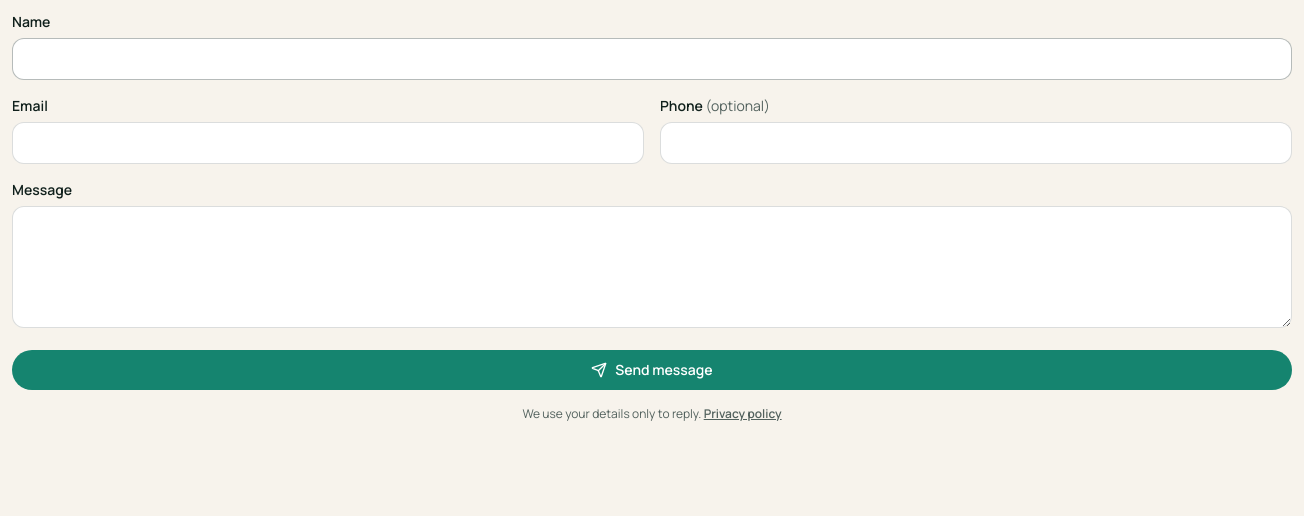
InquiryForm › clears a field error as soon as the field is edited
Click the button "Send message". click: (652, 370)
box: [12,350,1292,390]
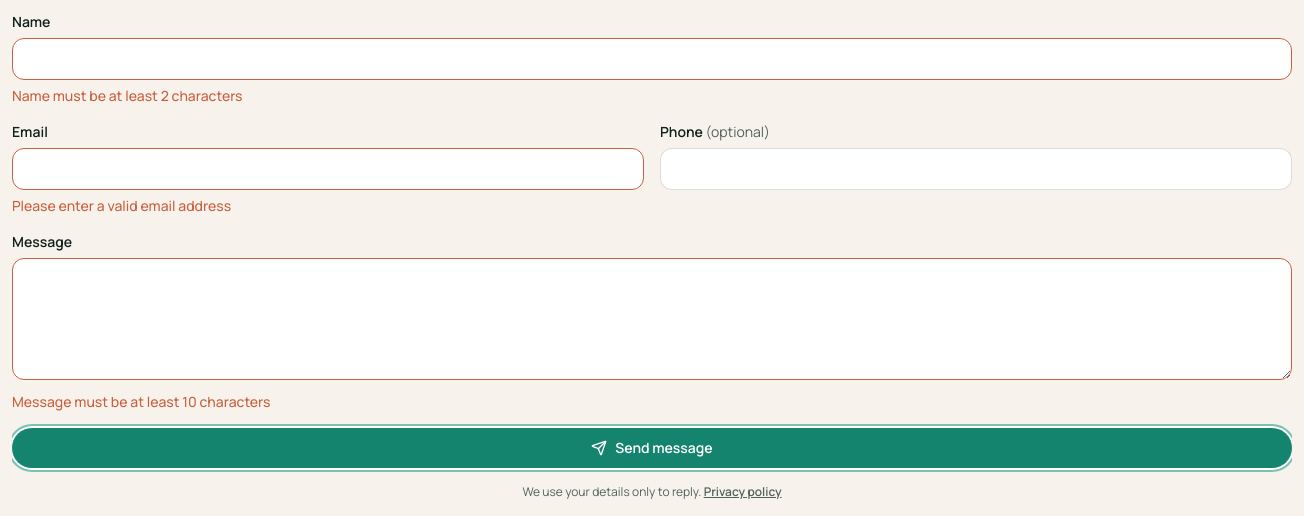
Now the text "Name must be at least 2 characters" is shown, box [12,86,243,105]
Type "P" into the field labelled "Name". click: (652, 59)
box: [12,38,1292,80]
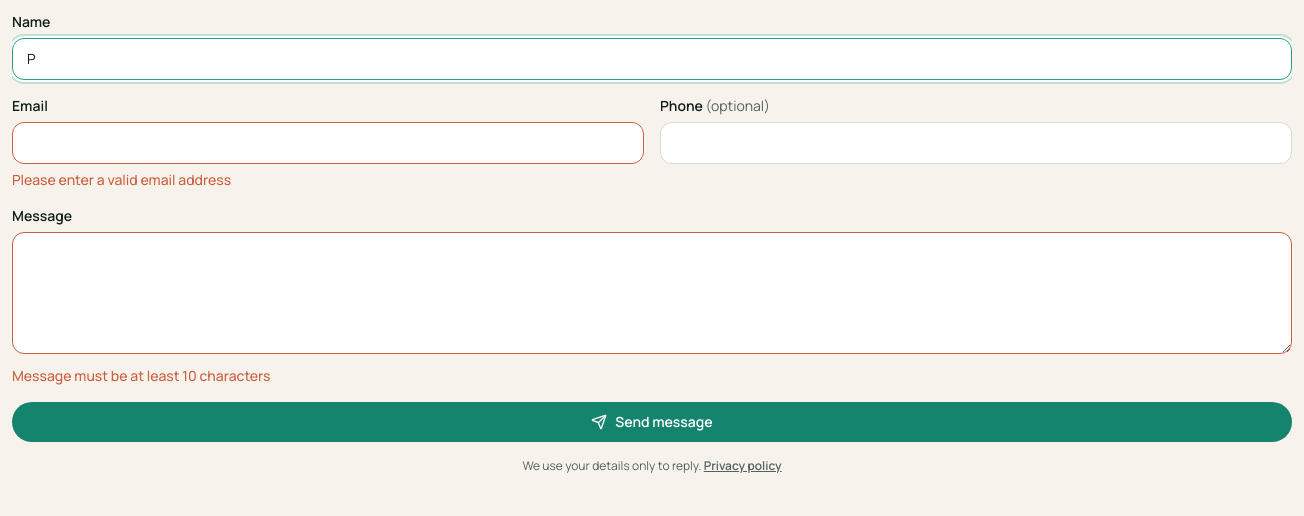
Now the text "Name must be at least 2 characters" is gone
